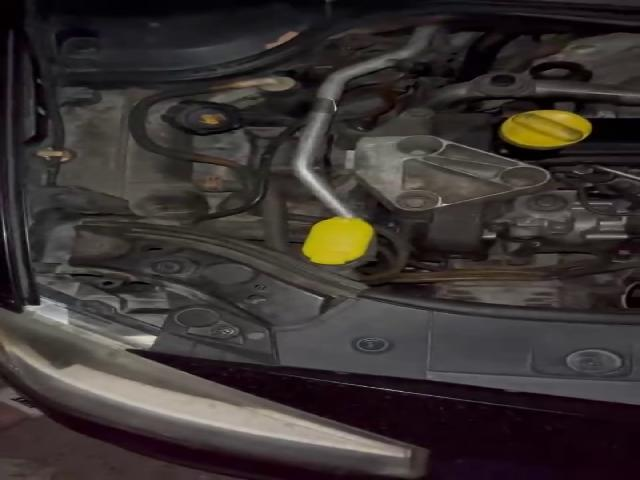antifreeze_tank: (57, 89, 208, 218), (146, 98, 245, 150)
